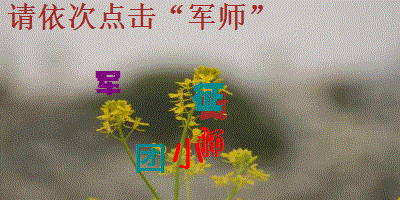text: (173, 136, 205, 170), (134, 142, 166, 174), (192, 81, 225, 112), (197, 92, 230, 121), (197, 126, 225, 159), (93, 69, 123, 97)
